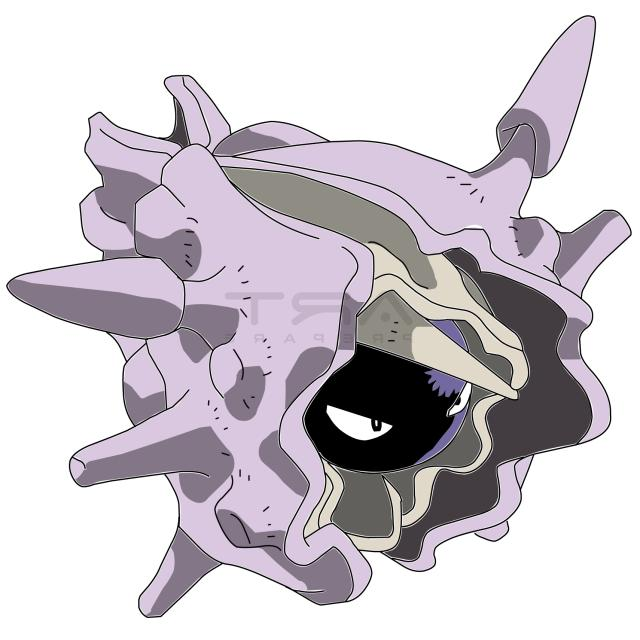Cloyster: (87, 23, 600, 613)
